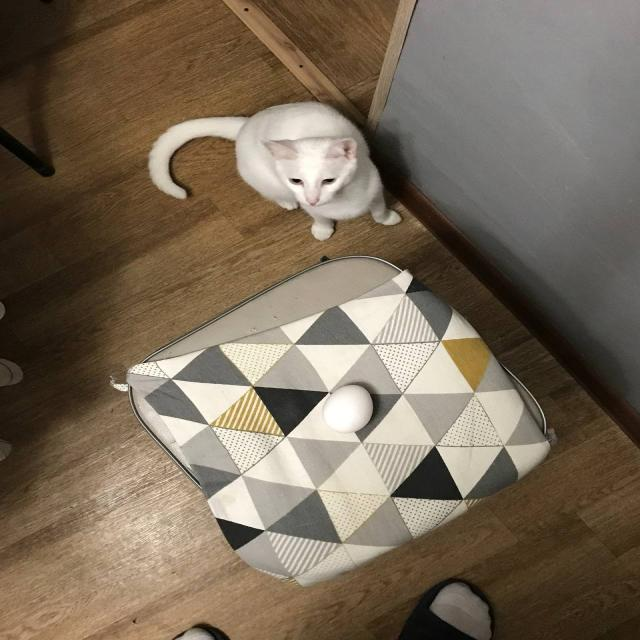egg: (324, 384, 374, 433)
